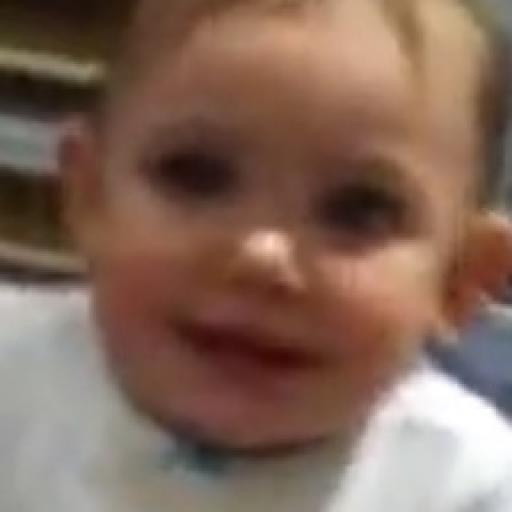Autism: (78, 45, 482, 483)
